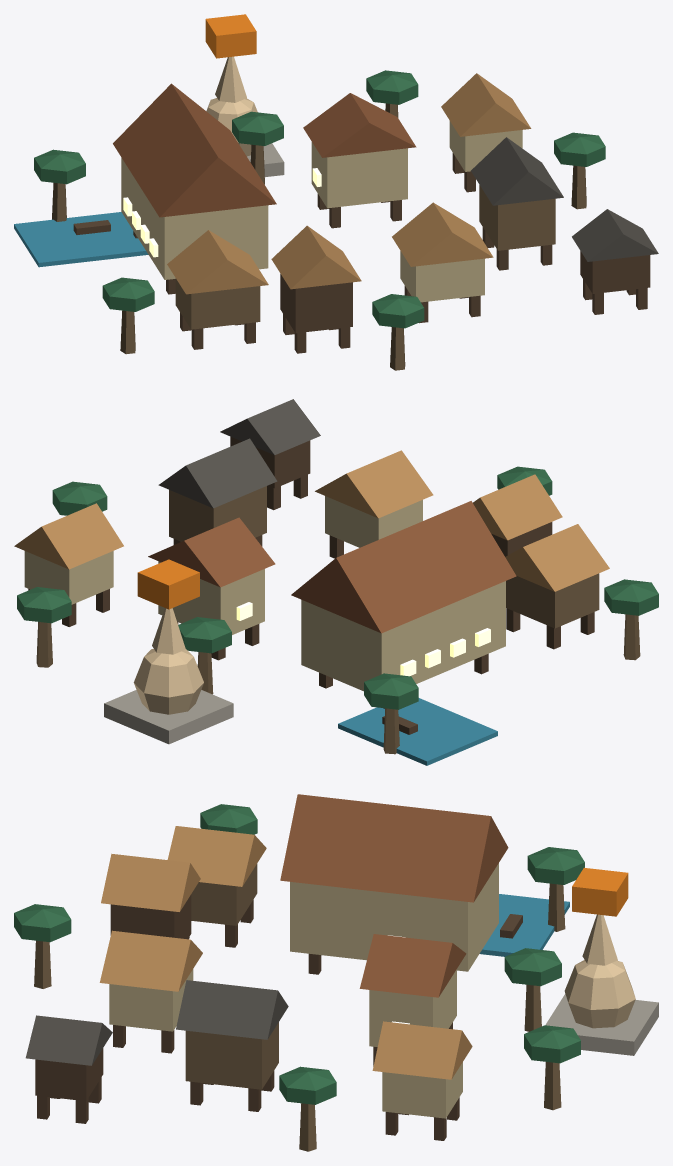
File: overworld-settlement-southeast-asian-rural.glb
3 views of the same model, one above another, from view 1: azimuth 30°, elevation 25°; view 2: azimuth 150°, elevation 25°; view 3: azimuth 270°, elevation 25° (orthographic). The views are drawn at different scales.
Parts seen in each view (by area): view 1: settlement; view 2: settlement; view 3: settlement.
Boxes of the visible parts, <box> form: settlement: <box>14,14,658,370</box>; settlement: <box>14,399,658,765</box>; settlement: <box>14,794,658,1151</box>.
Size of the model in its own units: 0.5151 by 0.1308 by 0.4894.
